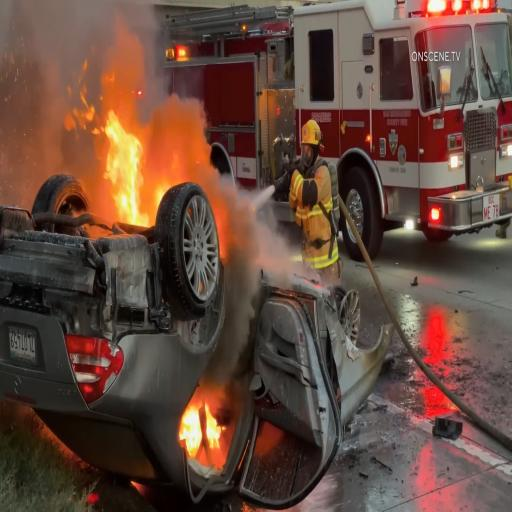fire: (63, 80, 162, 229), (181, 397, 223, 464)
smoke: (1, 2, 61, 177), (65, 2, 169, 81), (166, 90, 218, 184), (220, 179, 270, 273), (226, 266, 254, 348)
